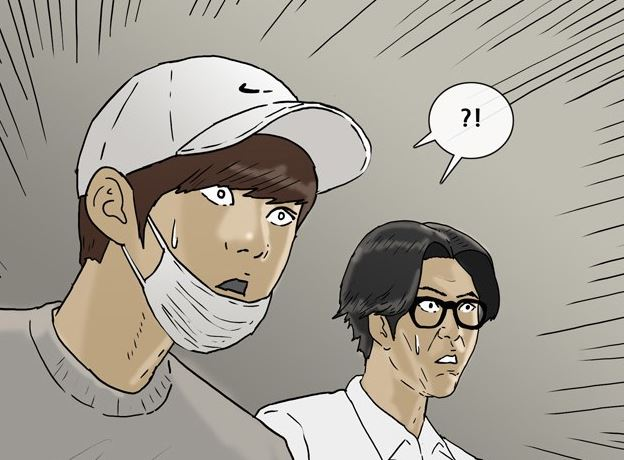hat: (71, 48, 374, 202)
